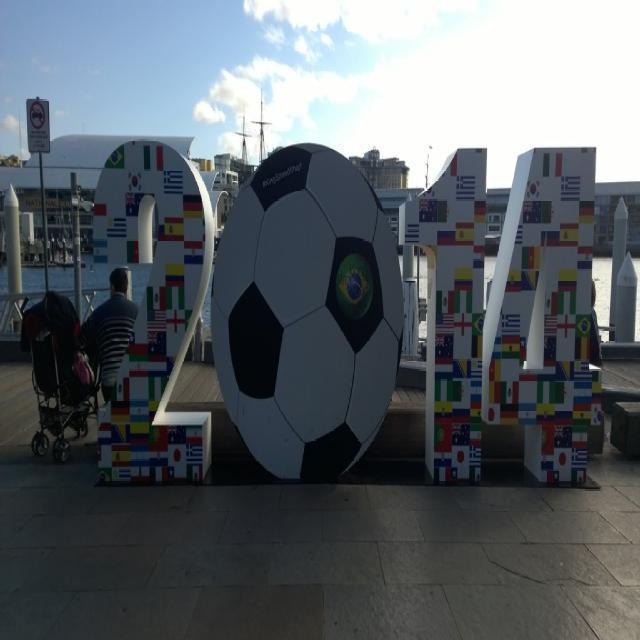ball: (212, 142, 407, 485)
